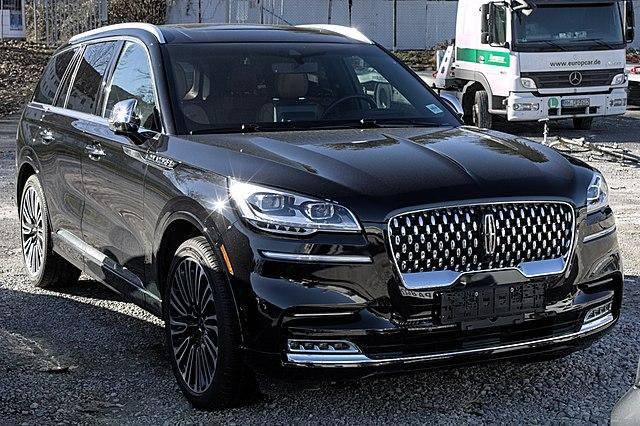lincoln: (475, 210, 505, 261)
